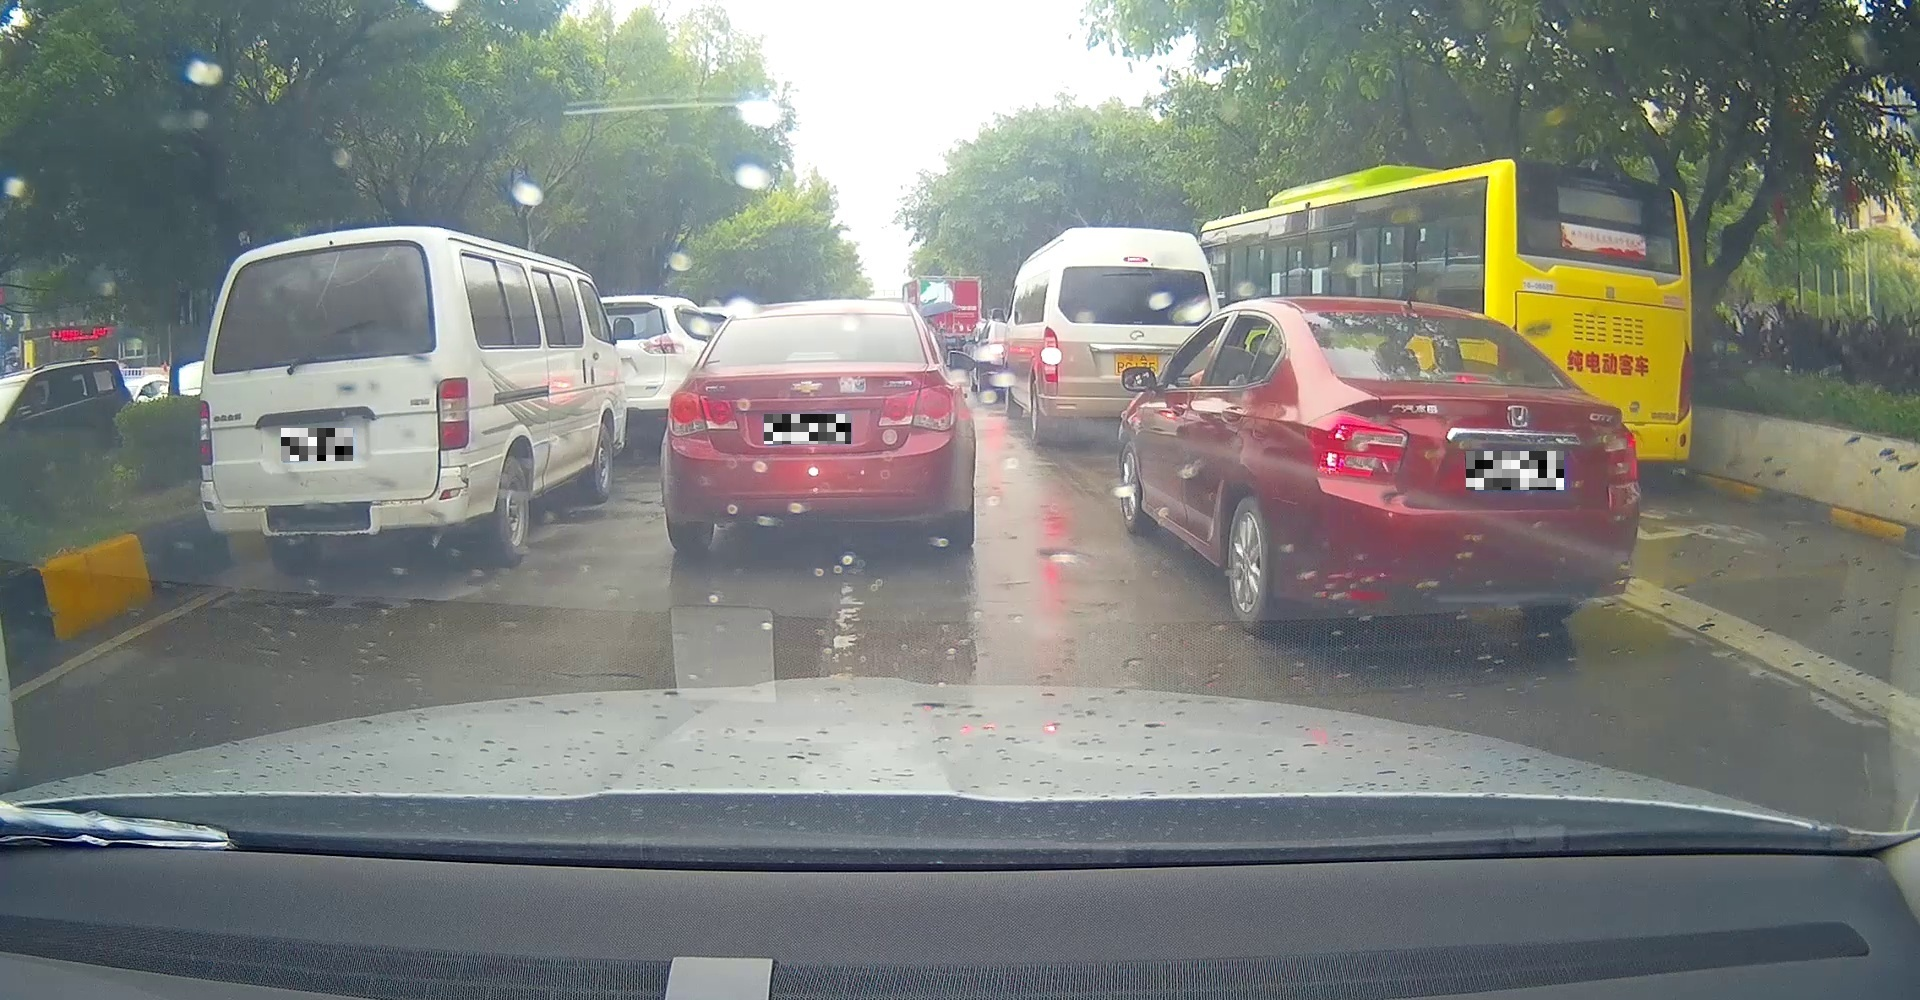L_light: (1304, 411, 1408, 482), (665, 390, 739, 437), (198, 398, 215, 466)
R_light: (877, 383, 959, 431), (436, 376, 470, 451), (1603, 430, 1638, 482), (298, 246, 342, 261)
T_light: (1434, 371, 1502, 385), (787, 352, 839, 363)
day-brake: (1291, 297, 1641, 638)
day-no: (197, 226, 474, 574), (658, 299, 977, 549)
plate_1: (281, 428, 353, 461)
plate_2: (764, 414, 851, 444)
plate_3: (1465, 451, 1564, 490)
